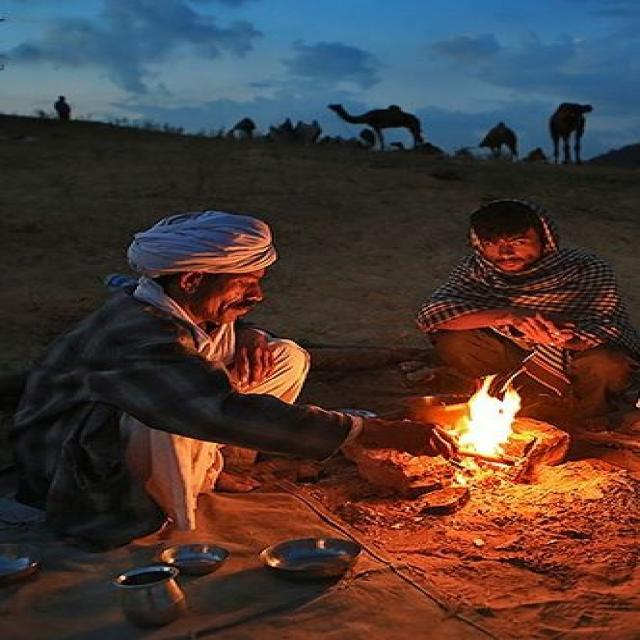fire: (461, 374, 520, 454)
